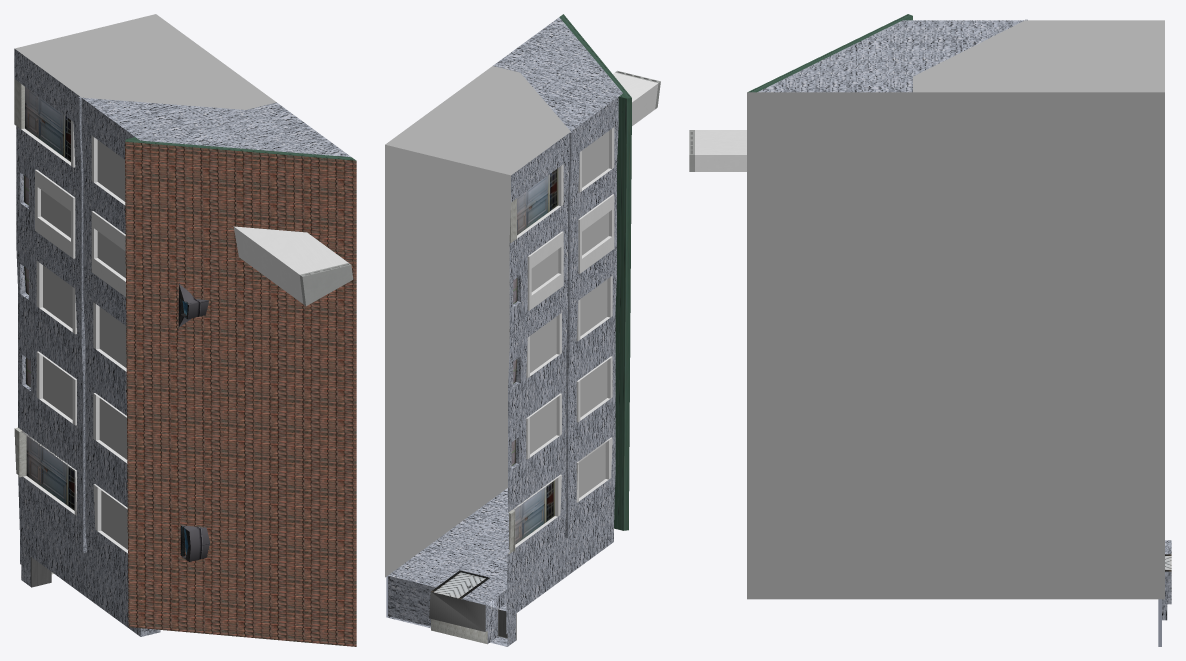
The model's file is Myyrivahe_50-origo.obj.
3 renders of one model, left to right at view 1: azimuth 30°, elevation 25°; view 2: azimuth 150°, elevation 25°; view 3: azimuth 270°, elevation 25°, orthographic. The views are drawn at different scales.
Visible parts, largest first — view 1: myv_50, xxx; view 2: myv_50, xxx; view 3: xxx, myv_50.
Part boxes in pixels (x1=…): myv_50: x1=14, y1=48, x2=356, y2=646; xxx: x1=15, y1=14, x2=276, y2=109; myv_50: x1=386, y1=14, x2=660, y2=646; xxx: x1=385, y1=66, x2=570, y2=577; xxx: x1=747, y1=20, x2=1164, y2=599; myv_50: x1=689, y1=14, x2=1171, y2=646.
Bounding box in the file's own units: 5.31 × 17.5 × 13.8.
